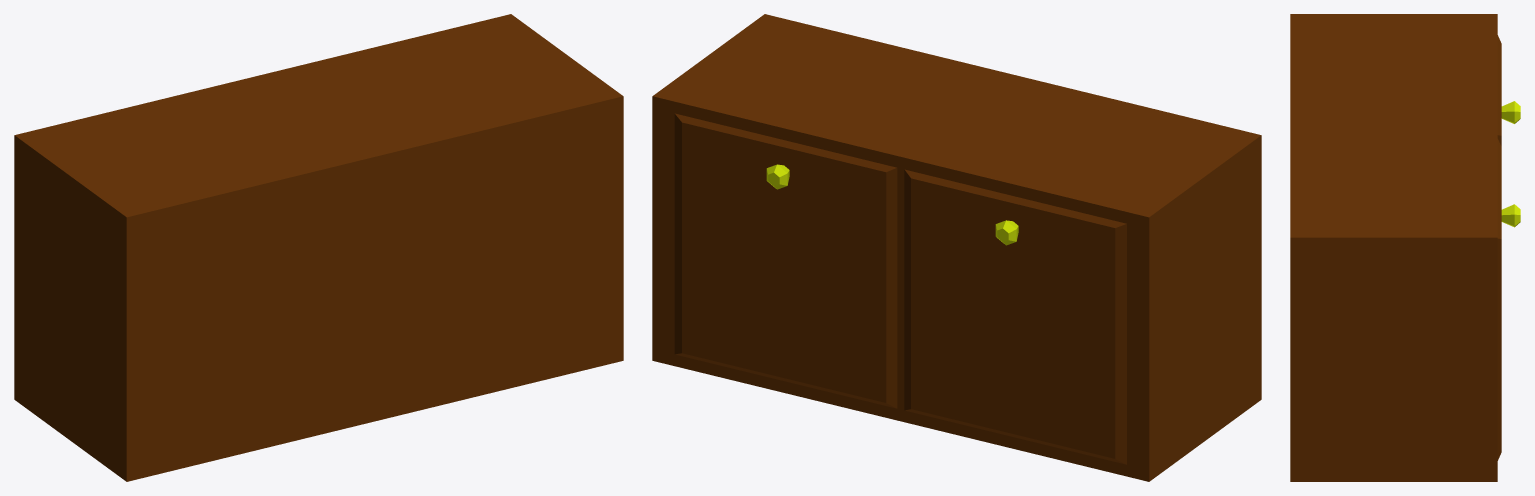
File: BedroomKomod.fbx
3 views of the same model, side by side, from view 1: azimuth 30°, elevation 25°; view 2: azimuth 150°, elevation 25°; view 3: azimuth 270°, elevation 25° (orthographic). The views are drawn at different scales.
Visible parts, largest first — view 1: Cube; view 2: Cube, Cylinder; view 3: Cube, Cylinder.
Part boxes in pixels (x1,y1,x2,y2): Cube: (14, 14, 623, 481); Cube: (652, 14, 1261, 481); Cylinder: (766, 164, 1018, 245); Cube: (1290, 14, 1501, 481); Cylinder: (1501, 101, 1520, 227).
Size of the model in its own units: 95.97 by 48.85 by 41.76.
